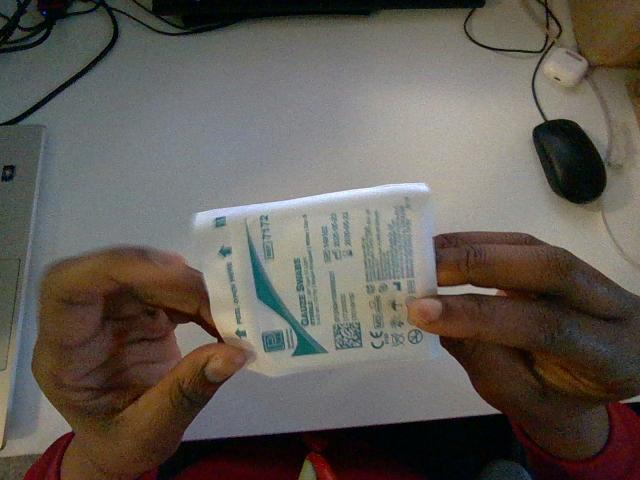gauze: (194, 184, 440, 375)
